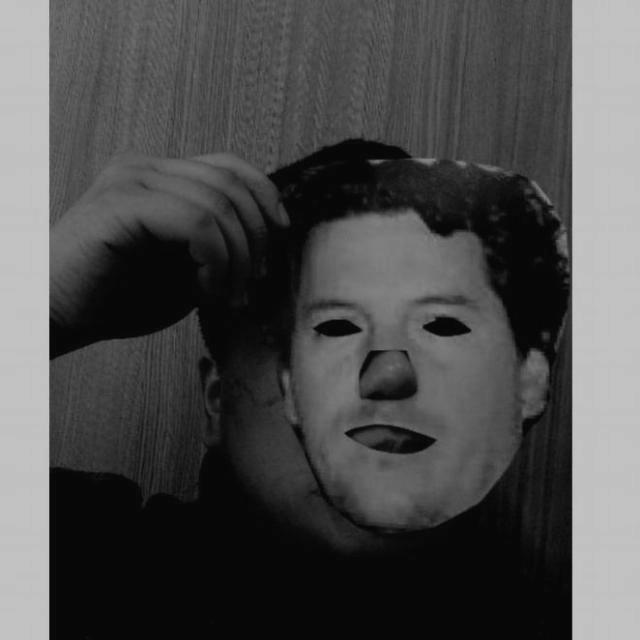fake: (242, 150, 570, 532)
